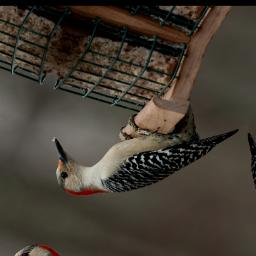Woodpecker: (31, 69, 244, 234)
